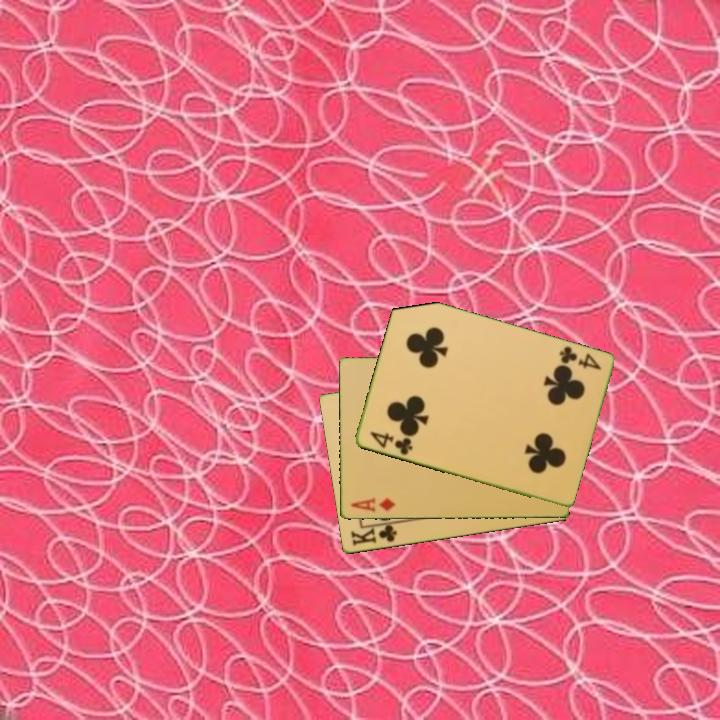4c: (366, 428, 415, 458), (555, 343, 604, 373)
Ad: (347, 494, 398, 515)
Kc: (347, 519, 401, 549)
